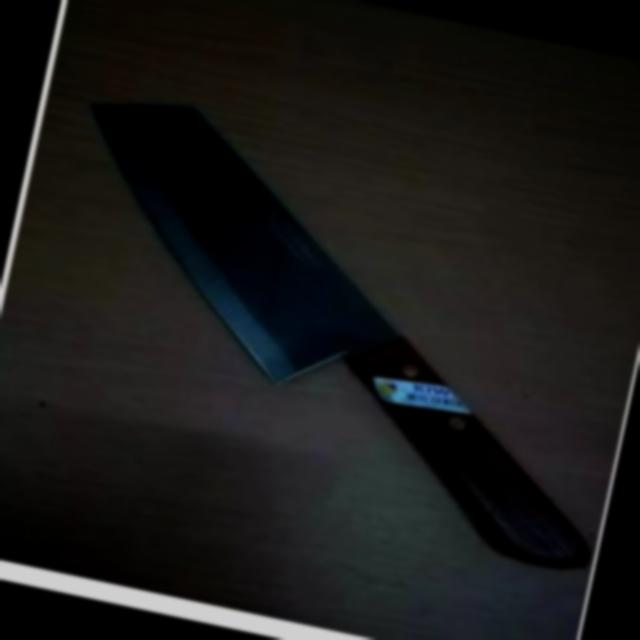knife: (2, 63, 640, 589)
